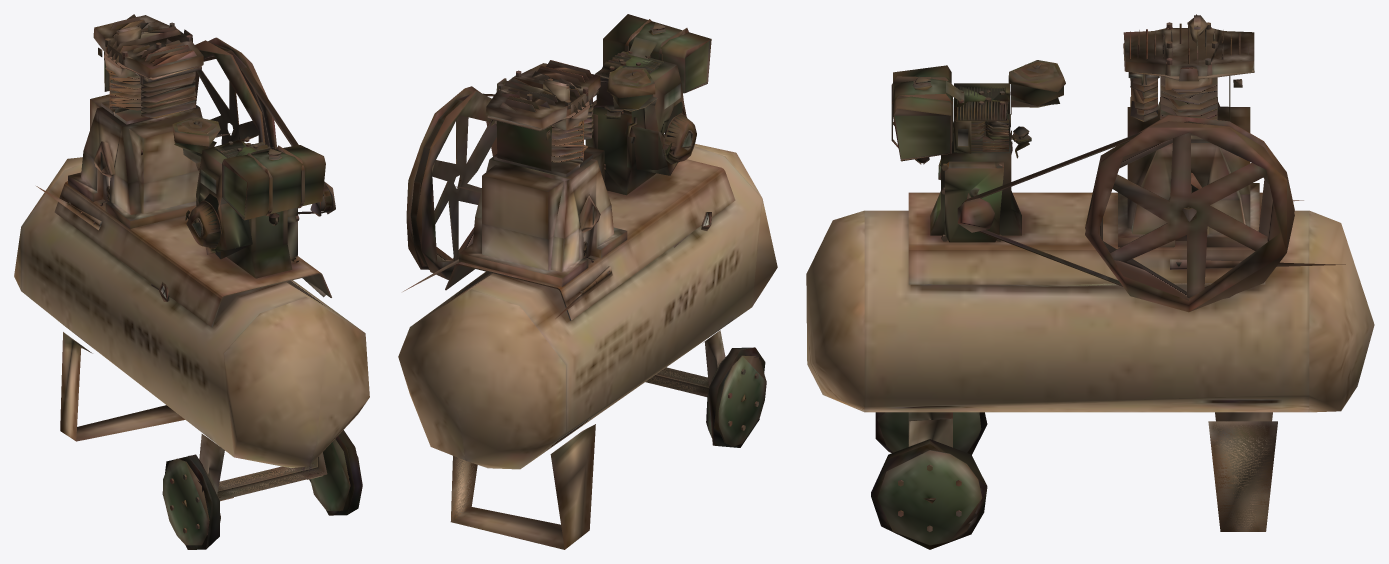
Rendered from compressor_lo.glb.
The picture shows the model from 3 angles, left to right: view 1: azimuth 30°, elevation 25°; view 2: azimuth 150°, elevation 25°; view 3: azimuth 270°, elevation 25°; orthographic projection. The views are drawn at different scales.
Parts seen in each view (by area): view 1: old_military_compressor; view 2: old_military_compressor; view 3: old_military_compressor.
Part boxes in pixels (x1=…): old_military_compressor: x1=14, y1=14, x2=369, y2=549; old_military_compressor: x1=398, y1=14, x2=777, y2=549; old_military_compressor: x1=806, y1=14, x2=1374, y2=549.
Bounding box in the file's own units: 0.4769 × 1.16 × 1.25.
2 materials, 2 textured.
